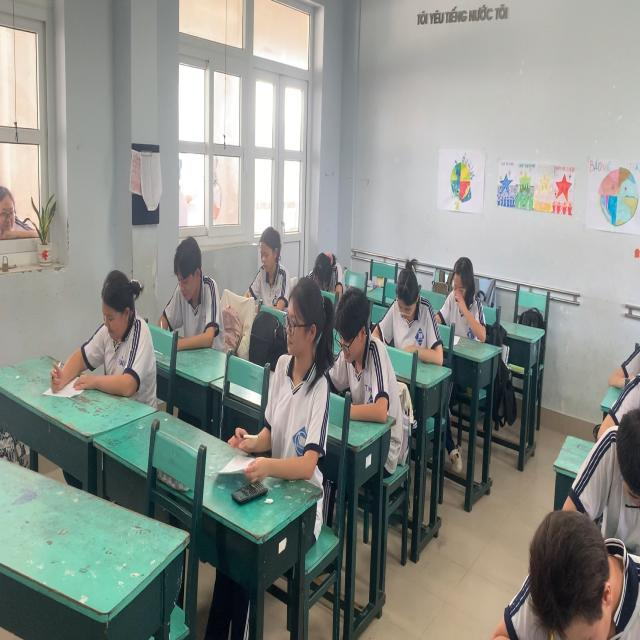cheating: (266, 275, 326, 485)
not_cheating: (516, 491, 640, 637), (77, 263, 157, 413), (331, 285, 401, 420), (159, 234, 229, 359), (388, 250, 436, 375), (446, 243, 483, 351), (242, 226, 290, 309), (306, 238, 342, 309)
